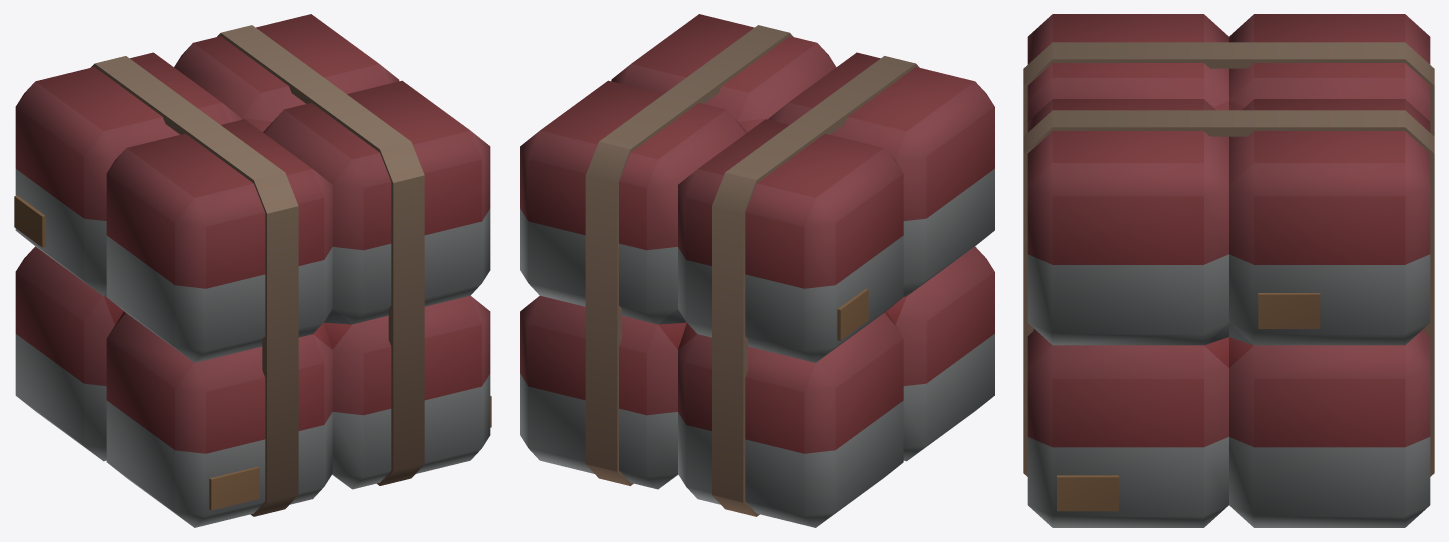
The model's file is cargo-BwJJGs4P.glb.
3 views of the same model, side by side, from view 1: azimuth 30°, elevation 25°; view 2: azimuth 150°, elevation 25°; view 3: azimuth 270°, elevation 25° (orthographic). The views are drawn at different scales.
Visible parts, largest first — view 1: cargo_A_stacked; view 2: cargo_A_stacked; view 3: cargo_A_stacked.
Boxes of the visible parts, <box> form: cargo_A_stacked: <box>14,14,491,527</box>; cargo_A_stacked: <box>520,14,994,527</box>; cargo_A_stacked: <box>1023,14,1434,527</box>.
Bounding box in the file's own units: 1.02 × 1.02 × 1.02.
Materials: 1 (1 with a texture image).
